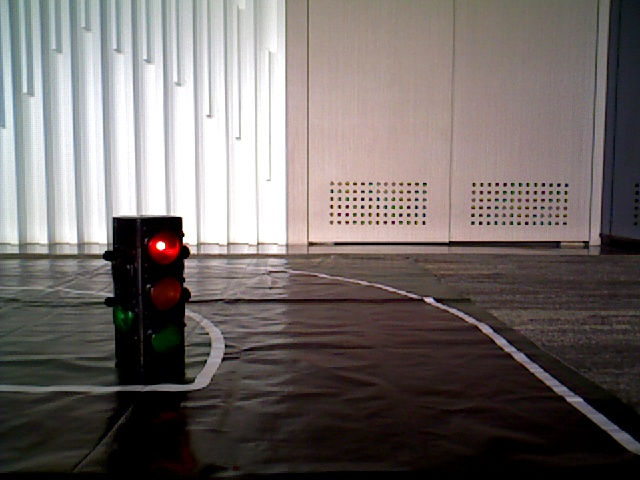red: (138, 218, 181, 377)
